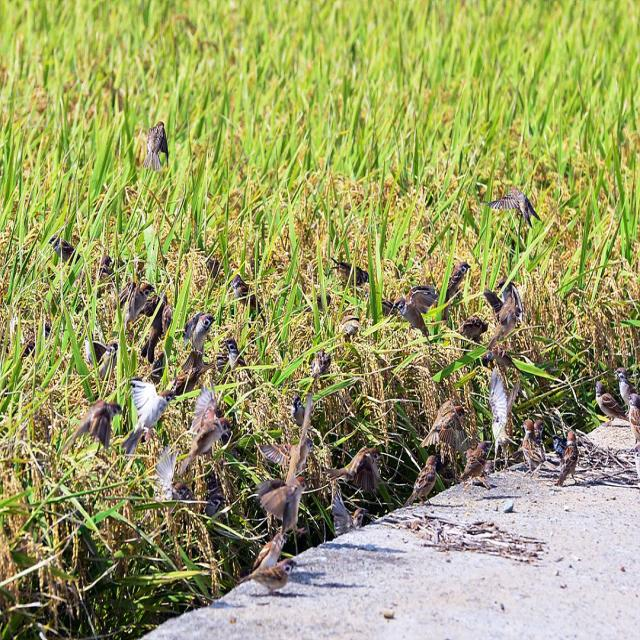bird: (474, 280, 524, 357), (126, 375, 176, 451), (432, 256, 478, 328), (391, 282, 442, 340), (137, 116, 174, 176), (547, 446, 583, 493)
